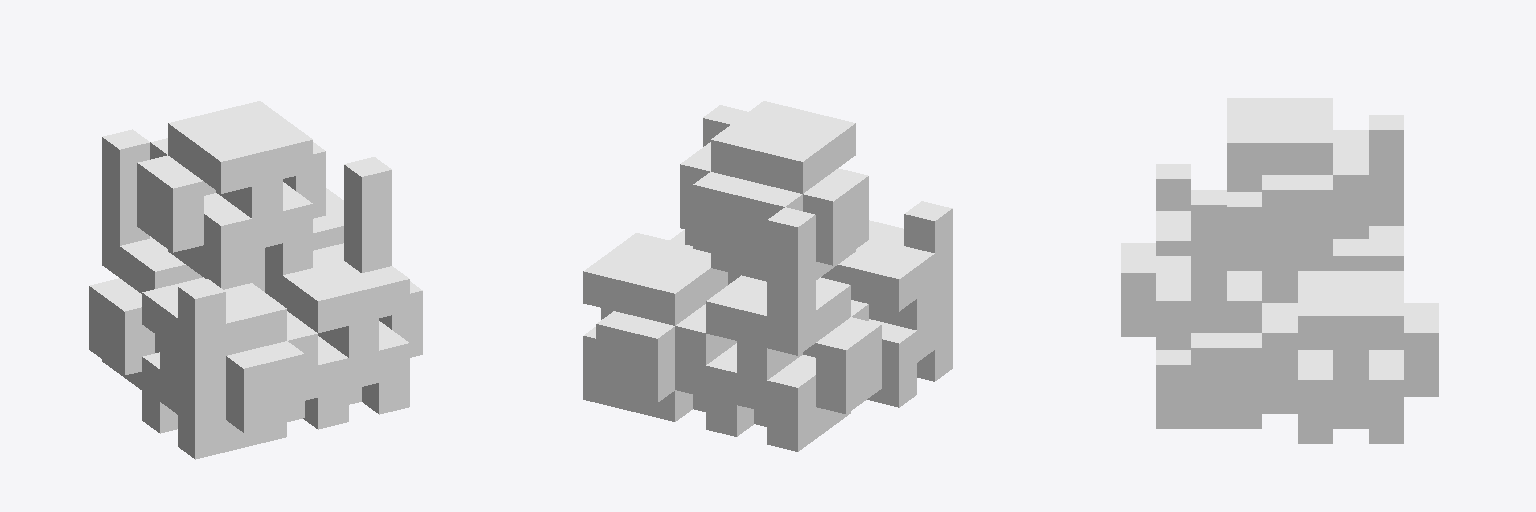
Rendered from church-46-skullpileCC.obj.
3 renders of one model, left to right at view 1: azimuth 30°, elevation 25°; view 2: azimuth 150°, elevation 25°; view 3: azimuth 270°, elevation 25°, orthographic.
Visible parts, largest first — view 1: skullpileCC; view 2: skullpileCC; view 3: skullpileCC.
Boxes of the visible parts, <box> form: skullpileCC: <box>89,101,422,459</box>; skullpileCC: <box>583,101,952,451</box>; skullpileCC: <box>1121,98,1438,443</box>.
Bounding box in the file's own units: 0.8 × 0.8 × 0.9.